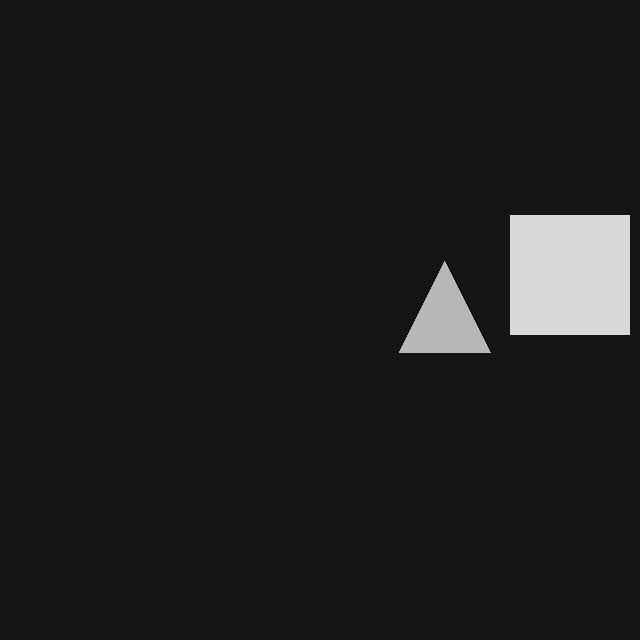square: (510, 215, 629, 334)
triangle: (399, 261, 490, 352)
